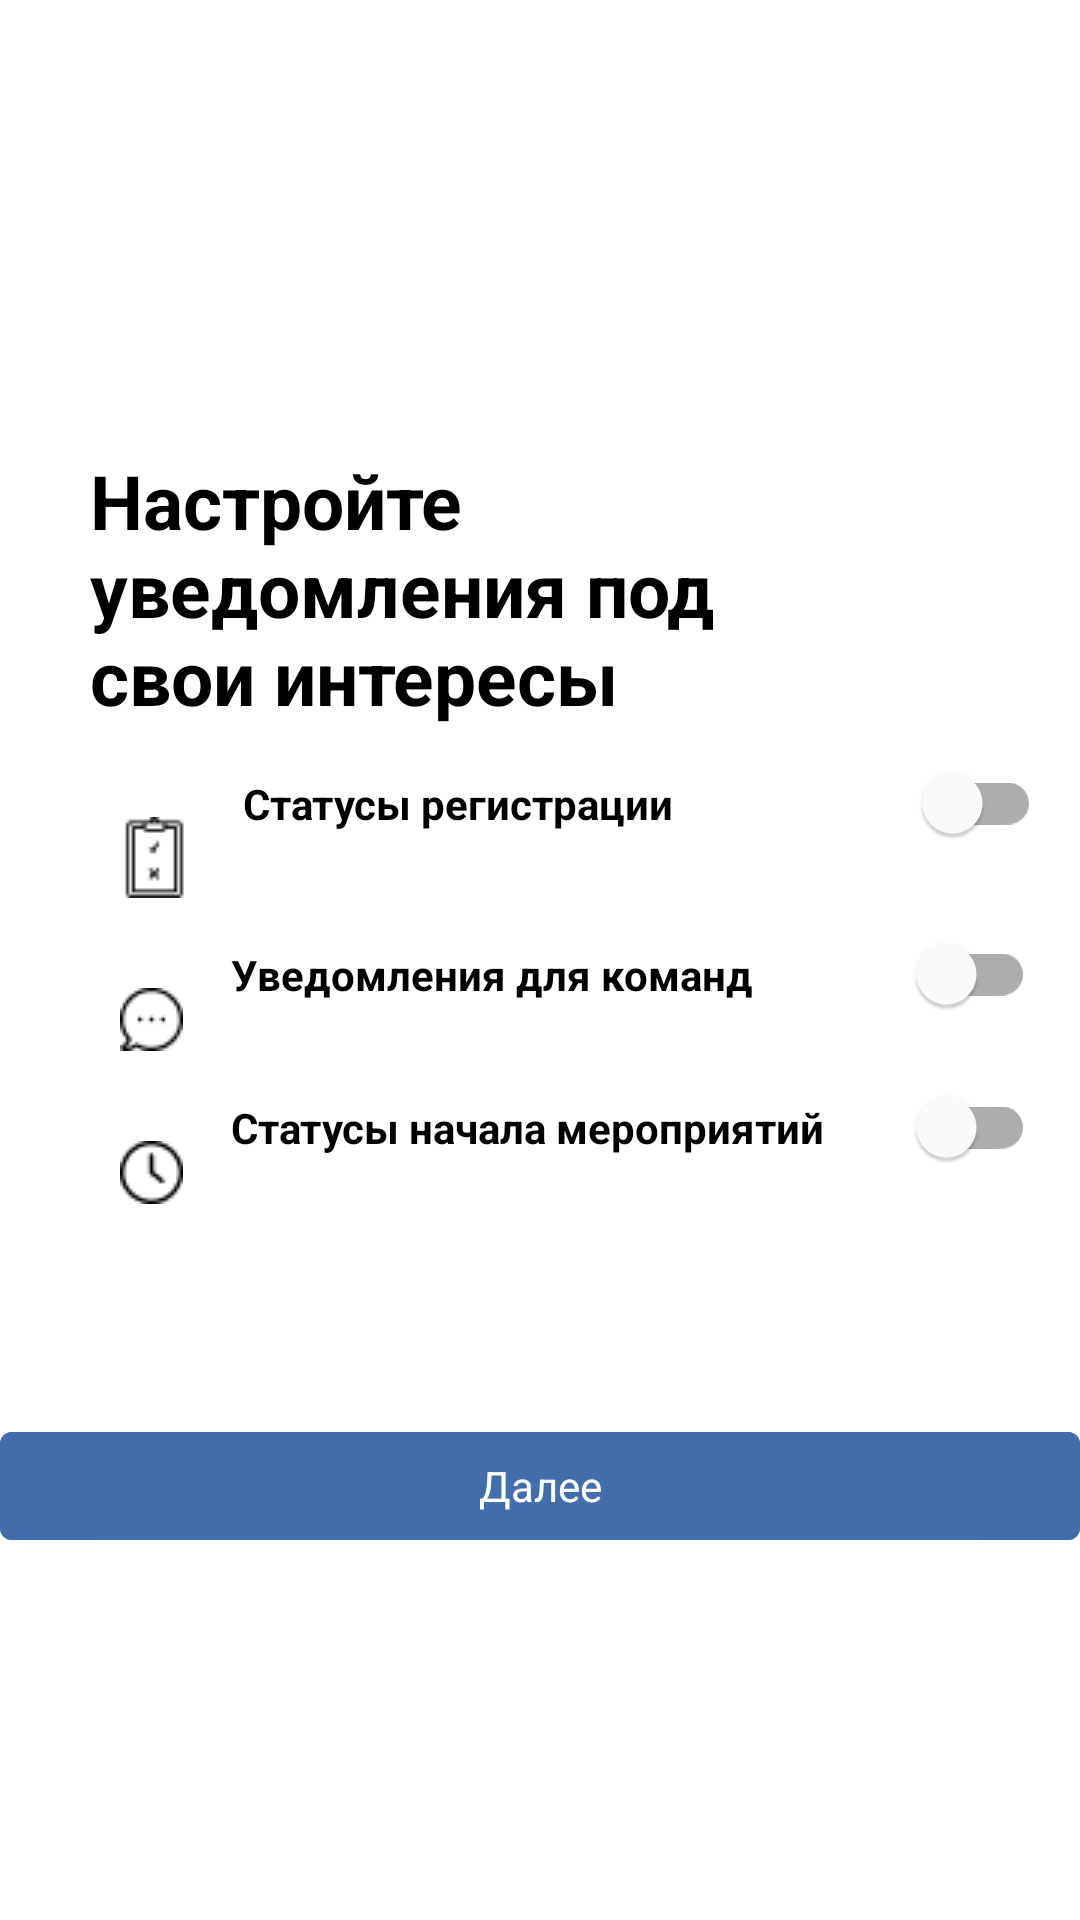

Icon bounding boxes for this 1080x1920 phone screenshot, format (x1, y1, x2, y2):
clock: (120, 1141, 183, 1204)
